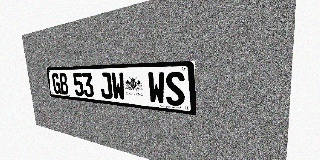3: (82, 73, 94, 98)
5: (73, 73, 84, 97)
B: (59, 73, 69, 95)
G: (51, 73, 61, 94)
J: (99, 72, 113, 99)
S: (165, 72, 185, 107)
W: (147, 72, 166, 105), (111, 72, 126, 101)
